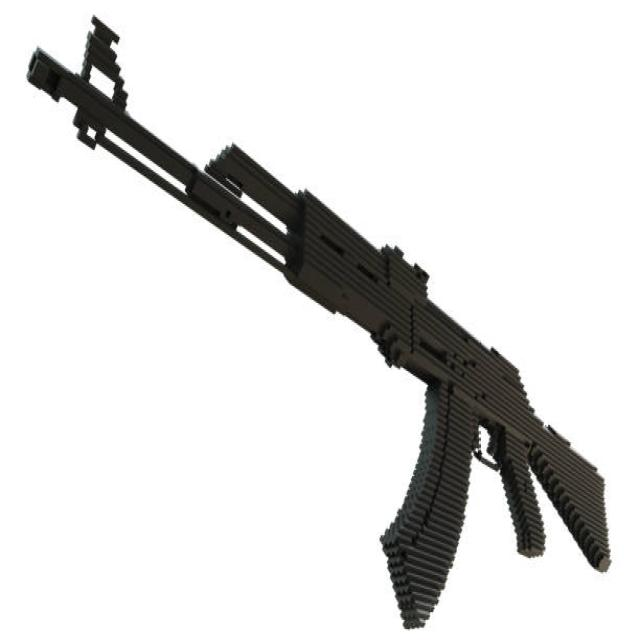rifle: (23, 14, 618, 639)
